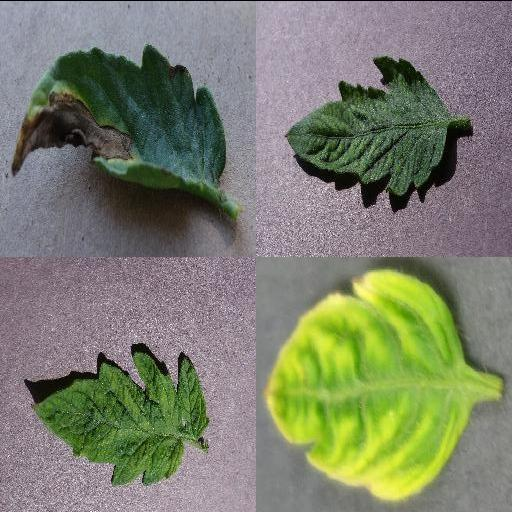Early Blight: (7, 44, 223, 198)
Mosaic Virus: (31, 350, 209, 486), (283, 54, 449, 196)
Yellow Leaf Curl Virus: (264, 267, 466, 503)
